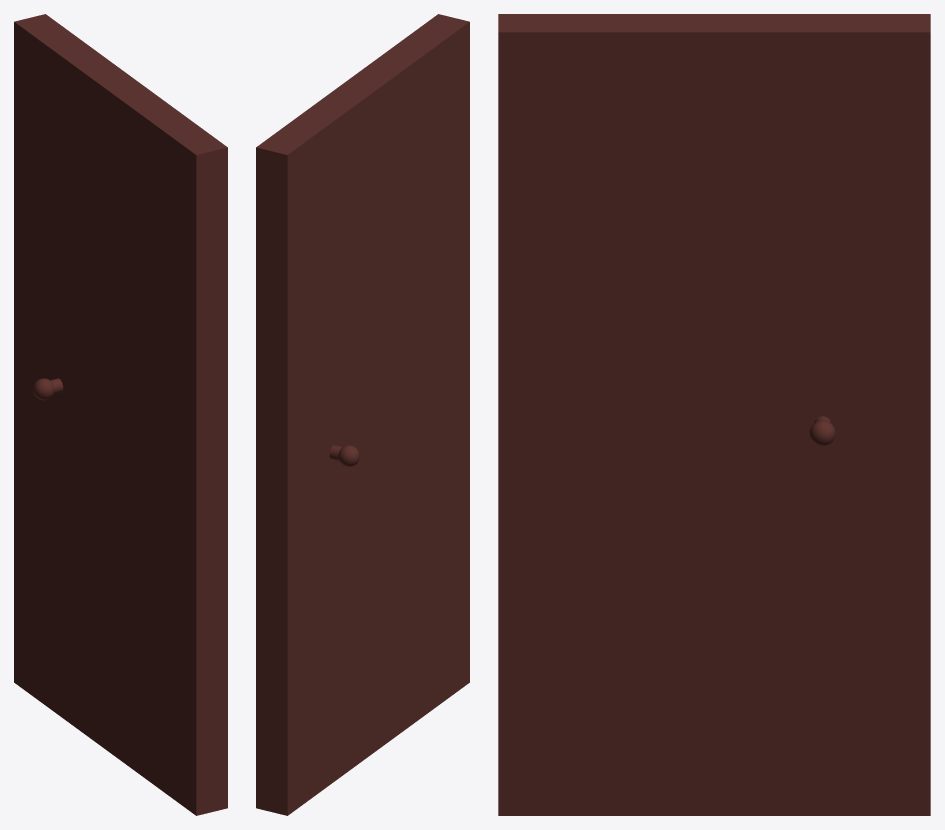
Rendered from door_off.glb.
3 renders of one model, left to right at view 1: azimuth 30°, elevation 25°; view 2: azimuth 150°, elevation 25°; view 3: azimuth 270°, elevation 25°, orthographic. The views are drawn at different scales.
Visible parts, largest first — view 1: Cube; view 2: Cube; view 3: Cube.
Boxes of the visible parts, box(x1,y1,x2,y2) form: Cube: box(14, 14, 227, 815); Cube: box(256, 14, 469, 815); Cube: box(498, 14, 930, 815).
Bounding box in the file's own units: 0.26 × 2 × 1.
